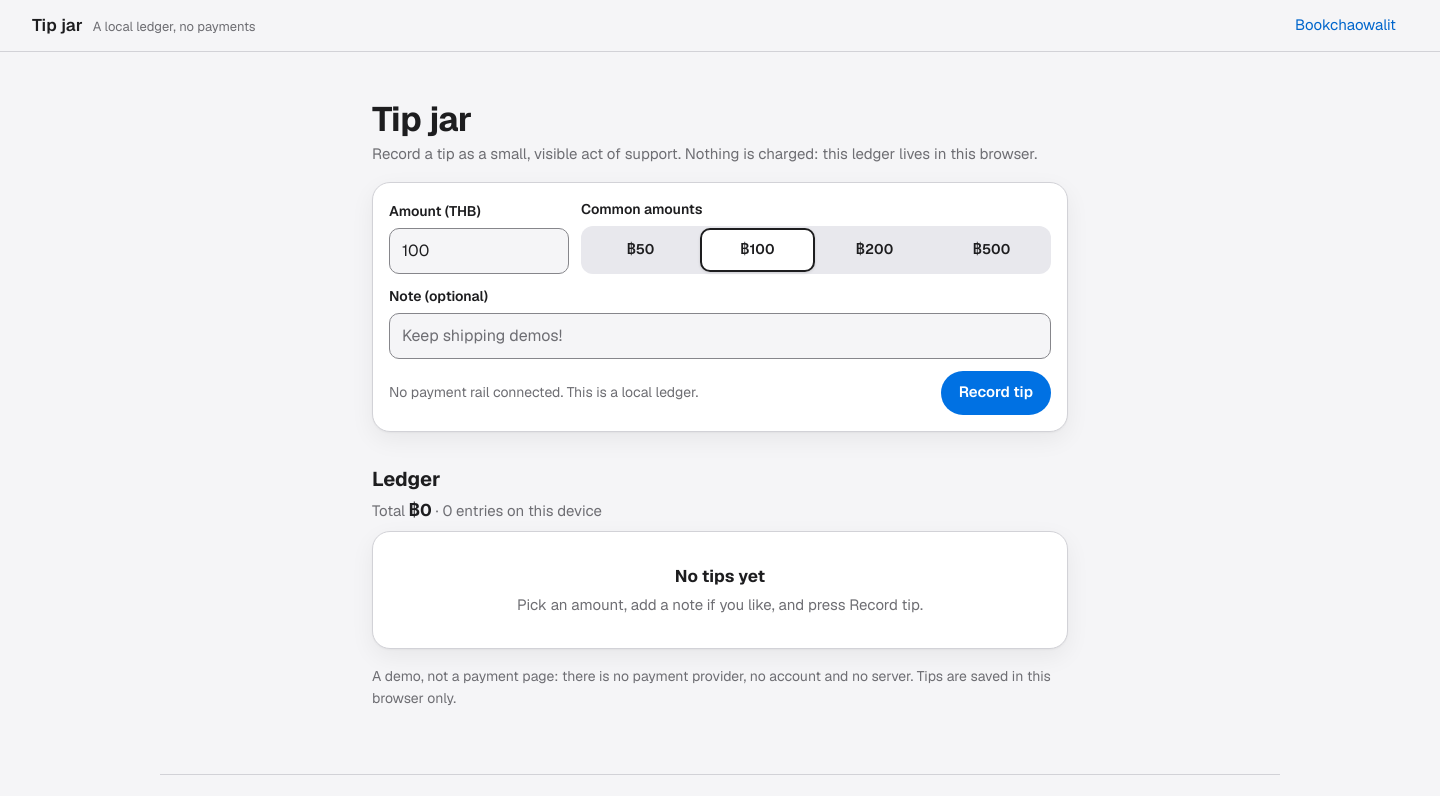
it: remove, clear and undo › Remove is undoable and keeps the order
Click the button "฿50": (640,250) [583,228,698,272]
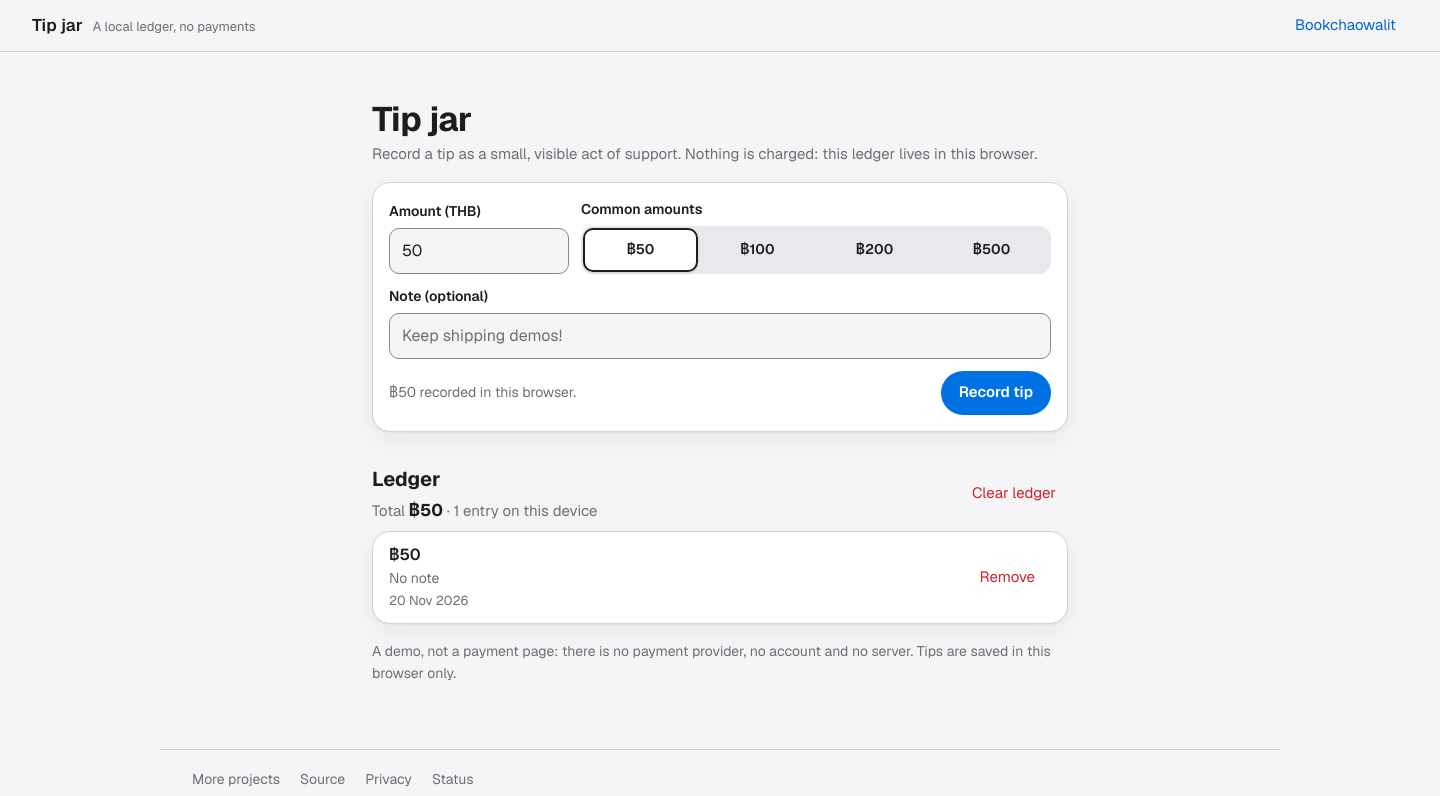
Click the button "฿500": (992,250) [934,228,1049,272]
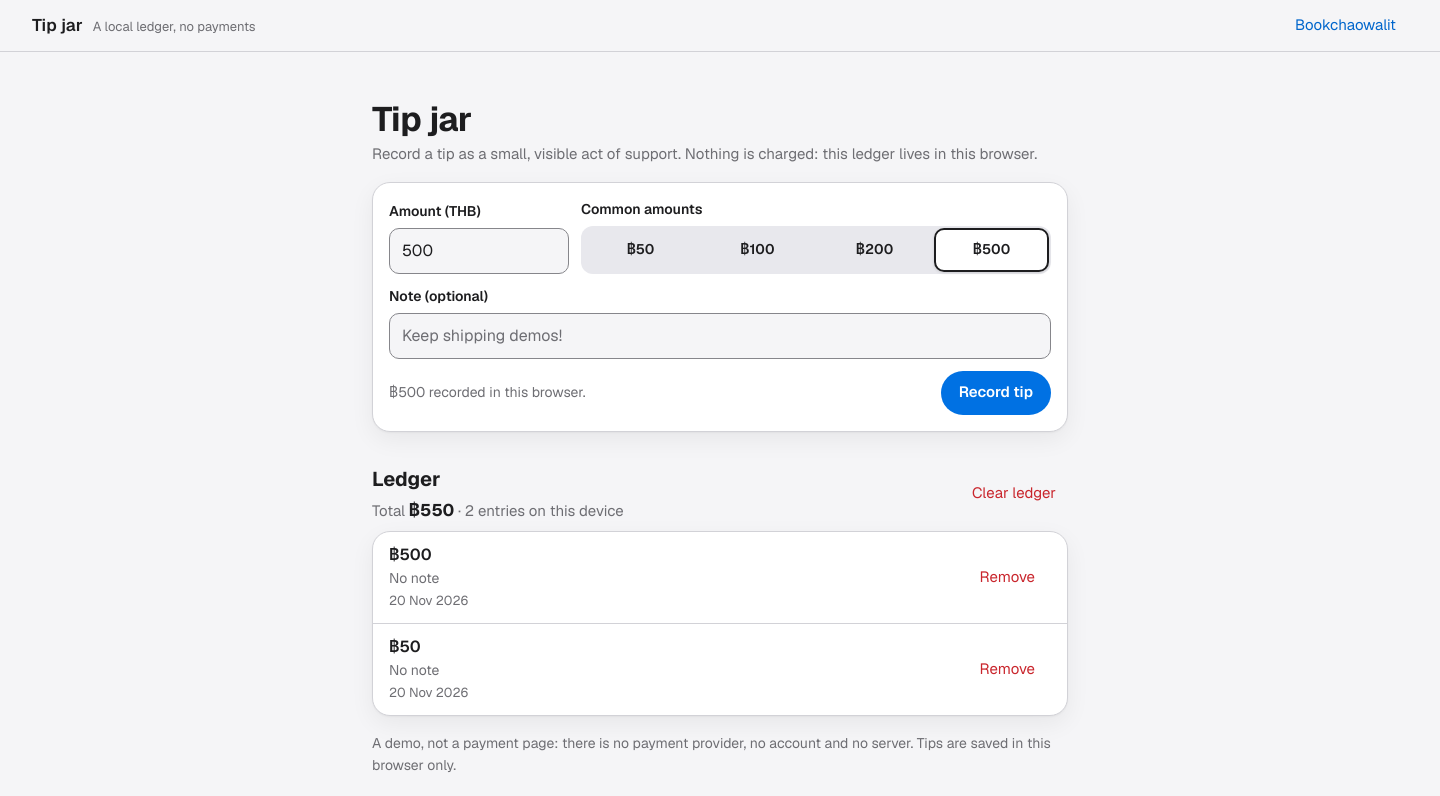
Click the 3rd button with class "as-danger": (1007,669) [968,647,1047,691]
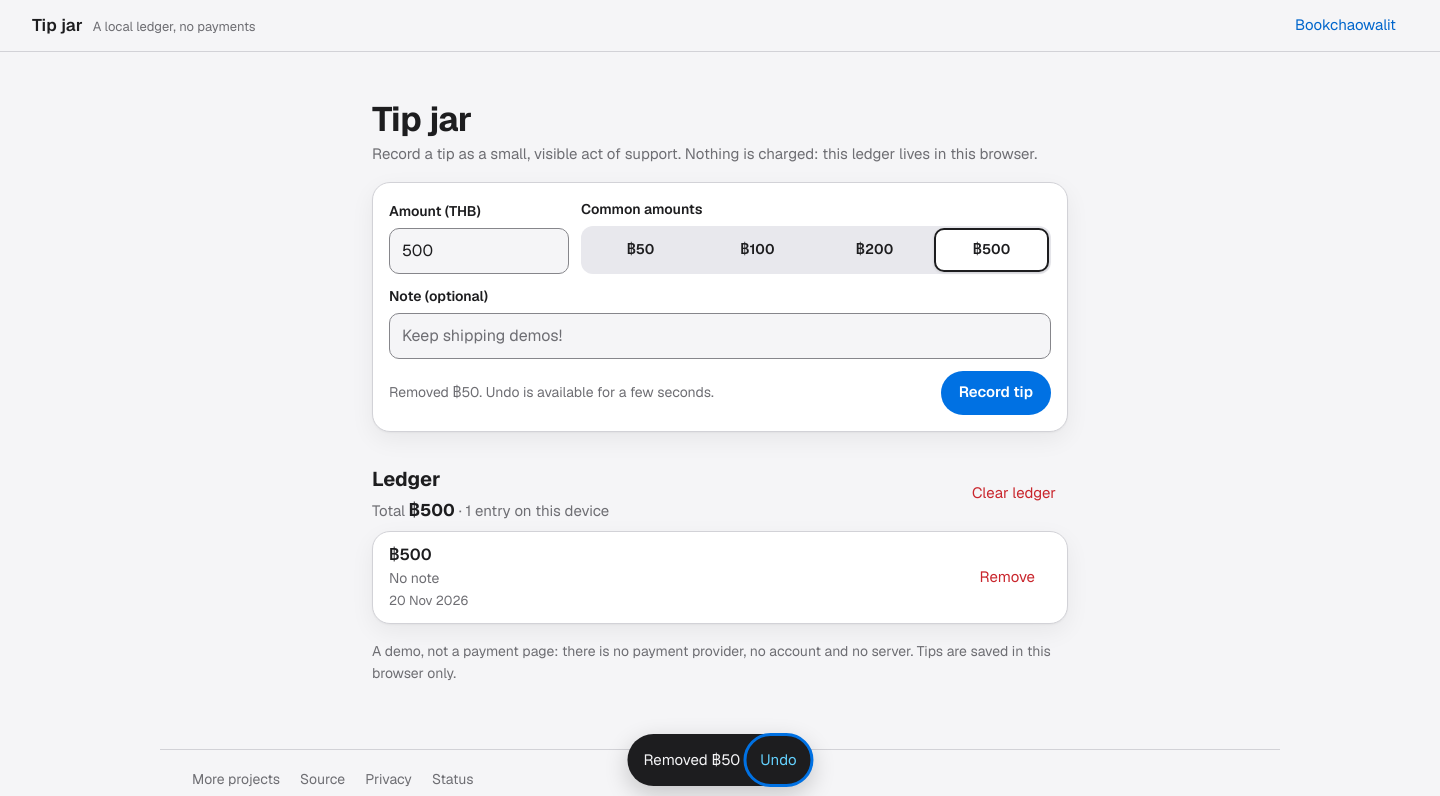
Click the button "Undo": (778,760) [748,738,809,782]
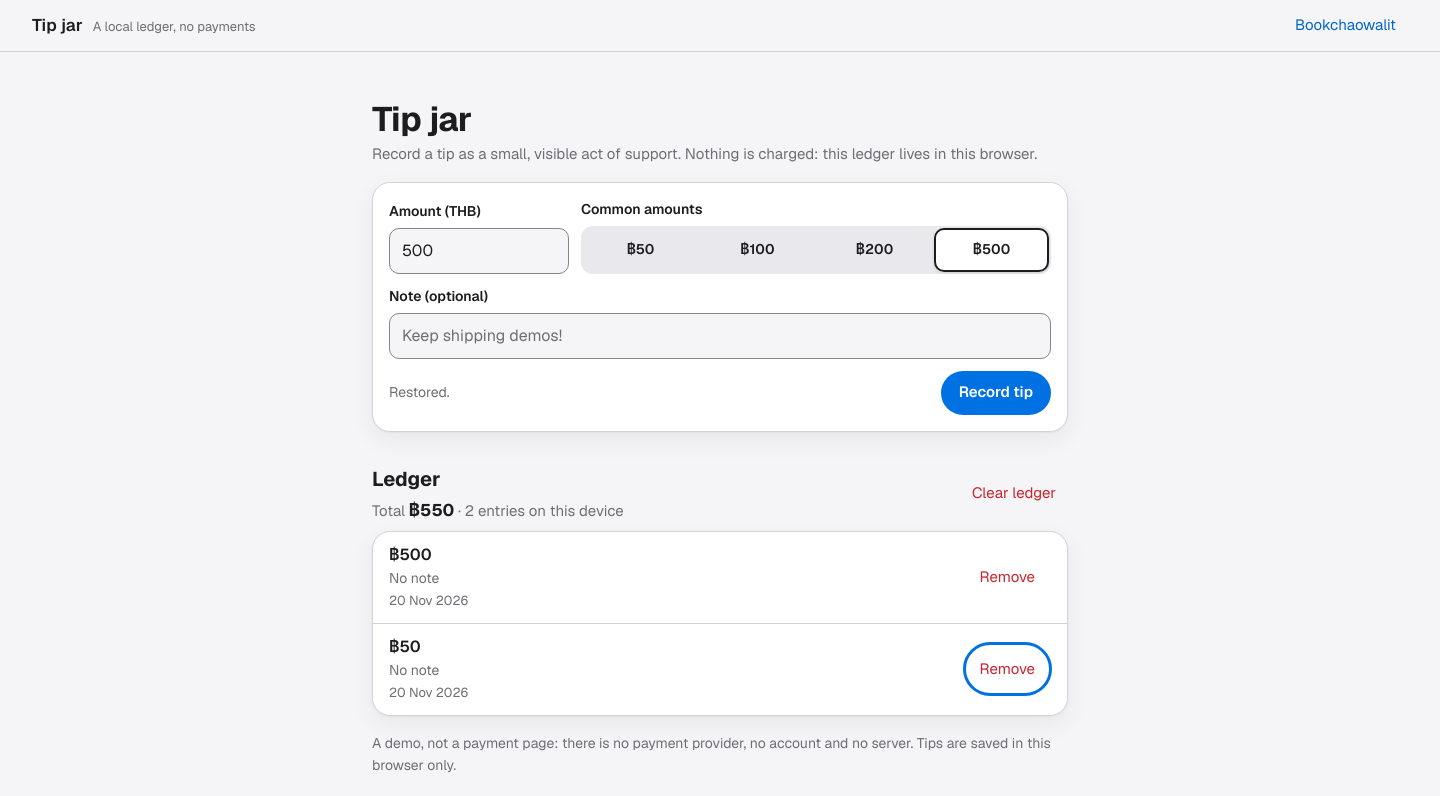
Expected: the element with class "as-toast" is gone
